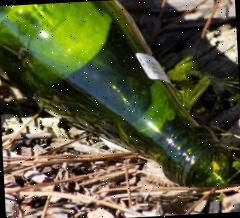glass: (0, 0, 236, 200)
